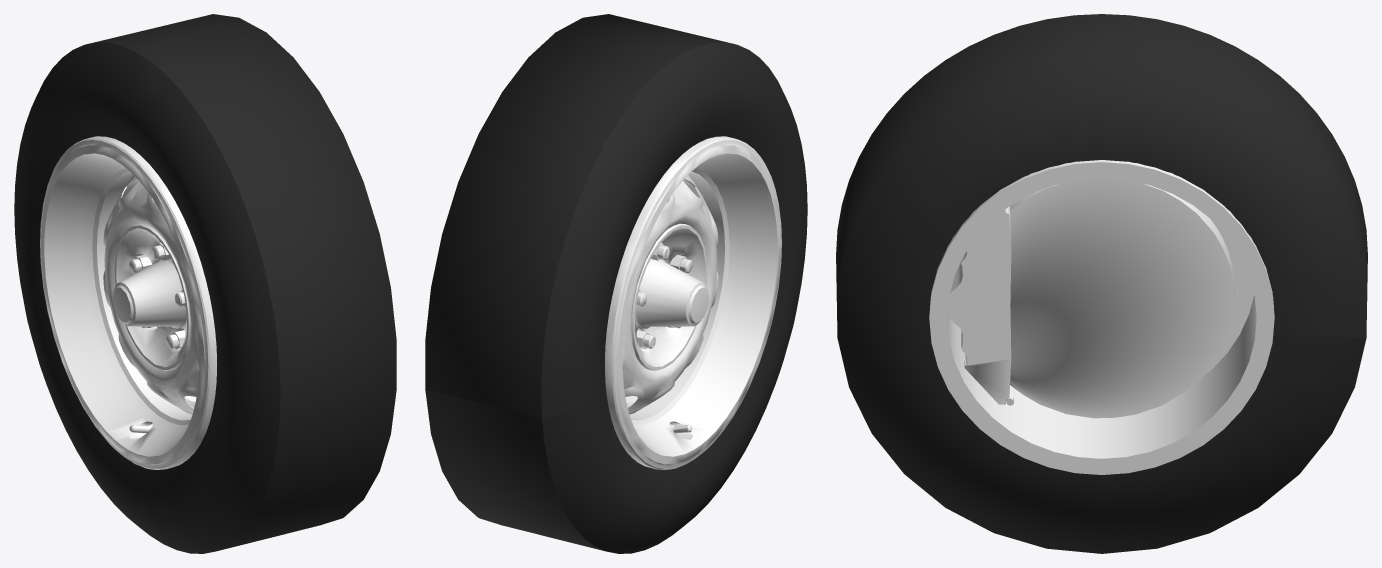
File: cartypewheel0modelhigh.obj
3 views of the same model, side by side, from view 1: azimuth 30°, elevation 25°; view 2: azimuth 150°, elevation 25°; view 3: azimuth 270°, elevation 25° (orthographic).
Parts seen in each view (by area): view 1: cartypewheel0modelhigh_Wheel.005; view 2: cartypewheel0modelhigh_Wheel.005; view 3: cartypewheel0modelhigh_Wheel.005.
Boxes of the visible parts, x1=… form: cartypewheel0modelhigh_Wheel.005: x1=14, y1=14, x2=396, y2=553; cartypewheel0modelhigh_Wheel.005: x1=425, y1=14, x2=807, y2=553; cartypewheel0modelhigh_Wheel.005: x1=836, y1=14, x2=1367, y2=553.
Size of the model in its own units: 0.2175 by 0.6266 by 0.6266.
